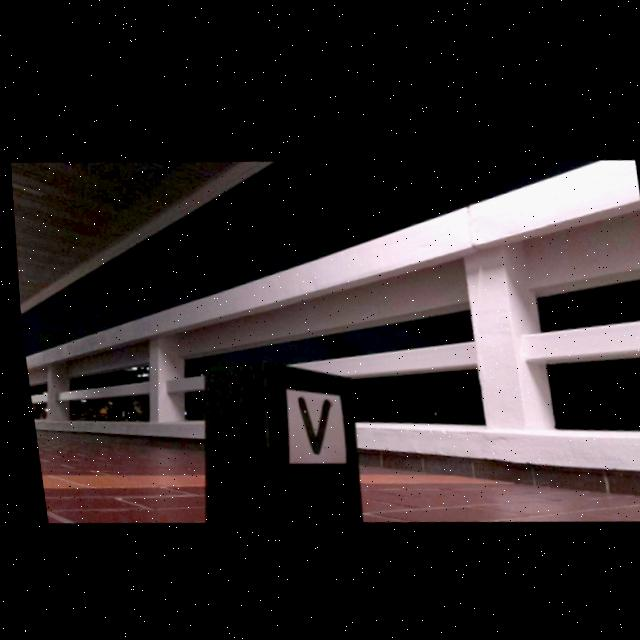V: (293, 393, 326, 450)
